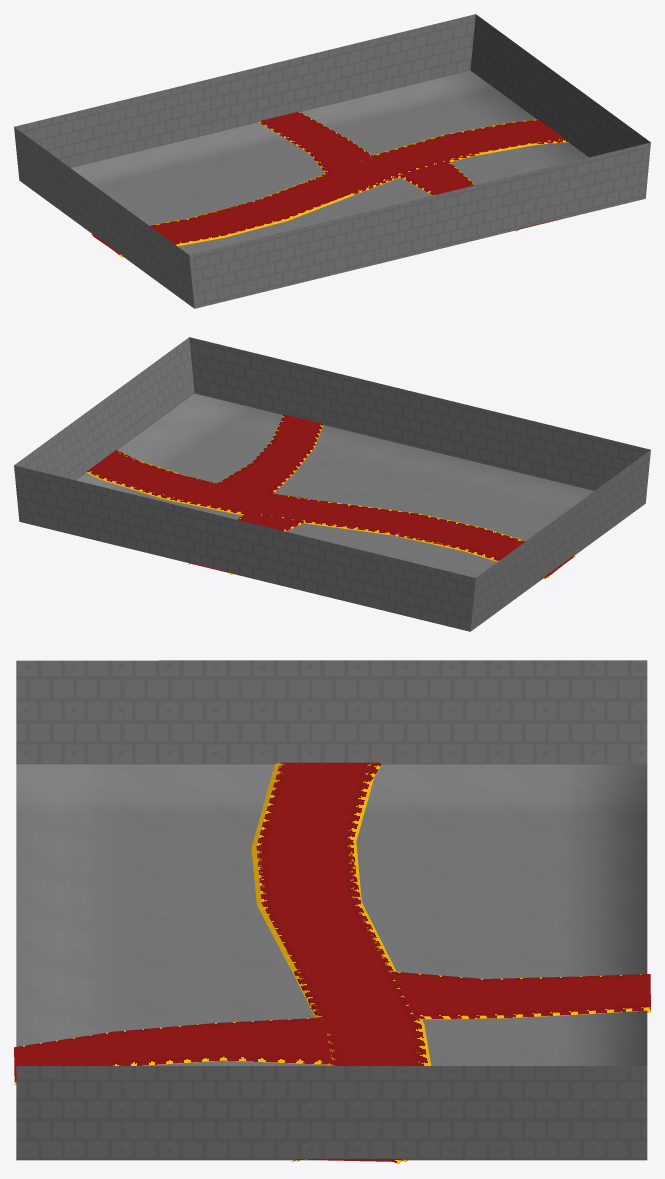
File: KasteelVloer.fbx
3 views of the same model, one above another, from view 1: azimuth 30°, elevation 25°; view 2: azimuth 150°, elevation 25°; view 3: azimuth 270°, elevation 25° (orthographic). The views are drawn at different scales.
Visible parts, largest first — view 1: Kasteel1way, Kasteel2way, Kasteel3way; view 2: Kasteel1way, Kasteel3way, Kasteel2way; view 3: Kasteel1way, Kasteel2way, Kasteel3way.
Part boxes in pixels (x1,y1,x2,y2): Kasteel1way: (14, 14, 650, 308); Kasteel2way: (93, 112, 557, 257); Kasteel3way: (91, 112, 567, 255); Kasteel1way: (14, 337, 650, 631); Kasteel3way: (89, 414, 571, 579); Kasteel2way: (87, 451, 575, 577); Kasteel1way: (16, 660, 647, 1161); Kasteel2way: (256, 762, 650, 1162); Kasteel3way: (14, 762, 650, 1164).
Size of the model in its own units: 20.56 by 2.37 by 13.65.
